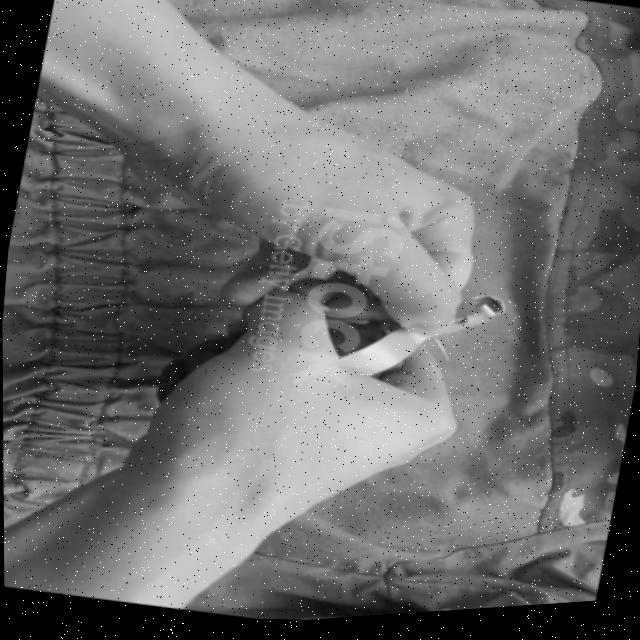grenade: (151, 246, 520, 474)
